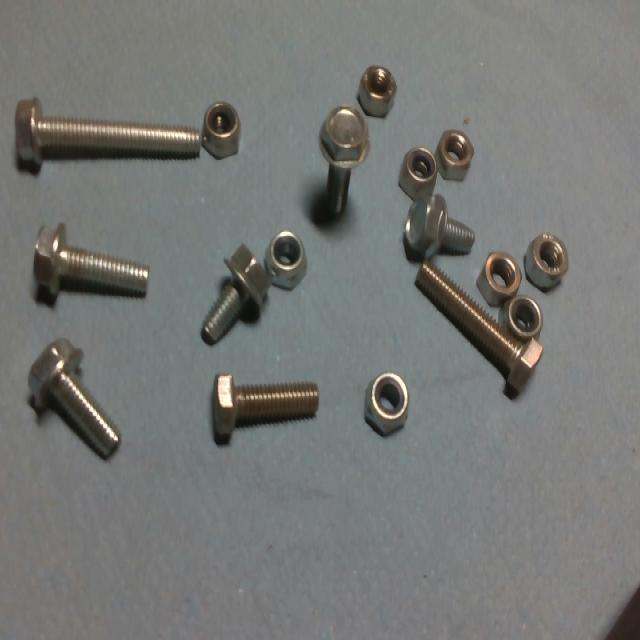Bolt: (416, 258, 547, 398), (13, 88, 205, 180), (23, 333, 128, 461), (24, 214, 153, 310), (208, 373, 328, 449), (193, 236, 272, 345), (313, 103, 372, 226), (393, 187, 478, 264)
Nut: (363, 367, 419, 439), (524, 226, 576, 297), (266, 223, 312, 294), (195, 98, 244, 162), (474, 247, 527, 304), (353, 66, 402, 124), (499, 291, 546, 345), (432, 130, 478, 183), (400, 149, 440, 200)
